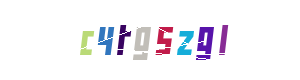4: (66, 0, 146, 80)
5: (110, 0, 190, 80)
C: (46, 0, 126, 80)
G: (109, 0, 189, 80), (145, 0, 225, 80)
L: (167, 0, 247, 80)
T: (82, 0, 162, 80)
Z: (124, 0, 204, 80)
